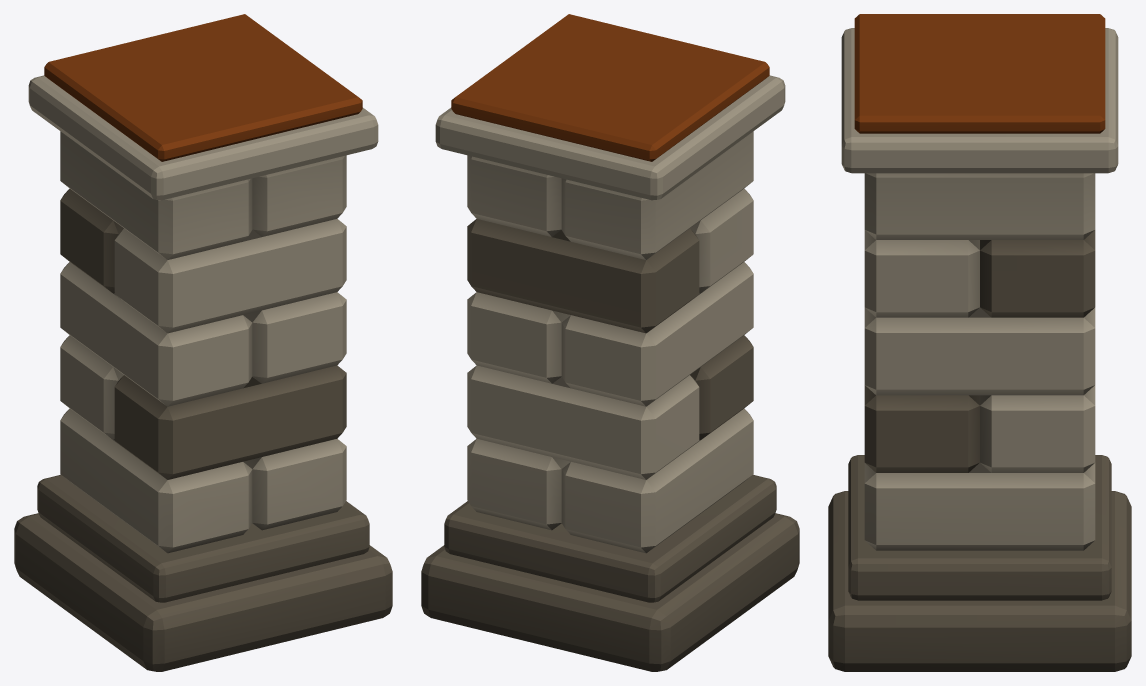
File: Pillar.fbx
3 renders of one model, left to right at view 1: azimuth 30°, elevation 25°; view 2: azimuth 150°, elevation 25°; view 3: azimuth 270°, elevation 25°, orthographic. The views are drawn at different scales.
Visible parts, largest first — view 1: Pillar; view 2: Pillar; view 3: Pillar.
Part boxes in pixels (bbox=[...]): Pillar: bbox=[14, 14, 392, 671]; Pillar: bbox=[421, 14, 799, 671]; Pillar: bbox=[828, 14, 1131, 671].
Bounding box in the file's own units: 0.92 × 1.84 × 0.92.
